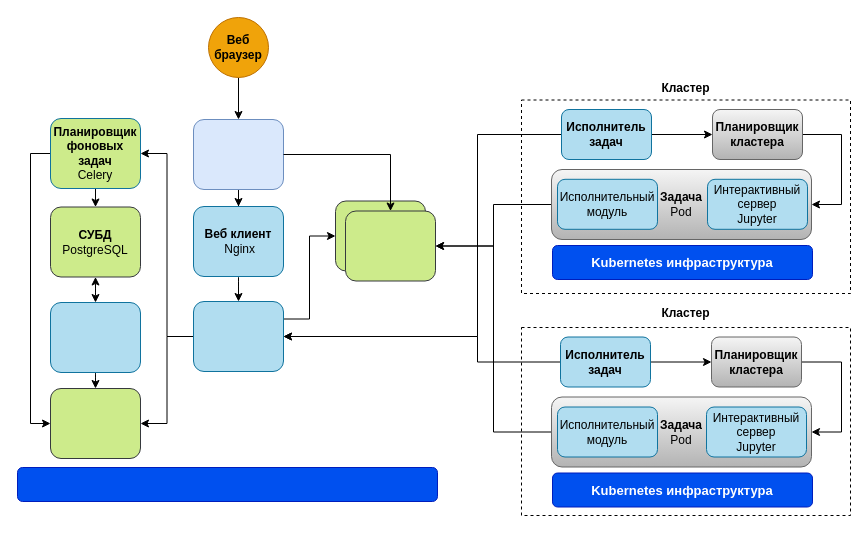
This 868x554 diagram has some shape labels left out. The box of each missing label's shape, as (x1, y1, x2, y2) in pixels:
API сервер FastAPI: (192, 300, 284, 372)
S3 хранилище Min.IO: (344, 210, 436, 281)
Брокер сообщений RabbitMQ: (50, 388, 140, 458)
Кластер с Kubernetes инфраструктурой: (16, 466, 438, 502)
Контроллер входа Nginx Ingress: (192, 118, 284, 190)
Прокси брокера сообщений: (50, 302, 140, 372)
